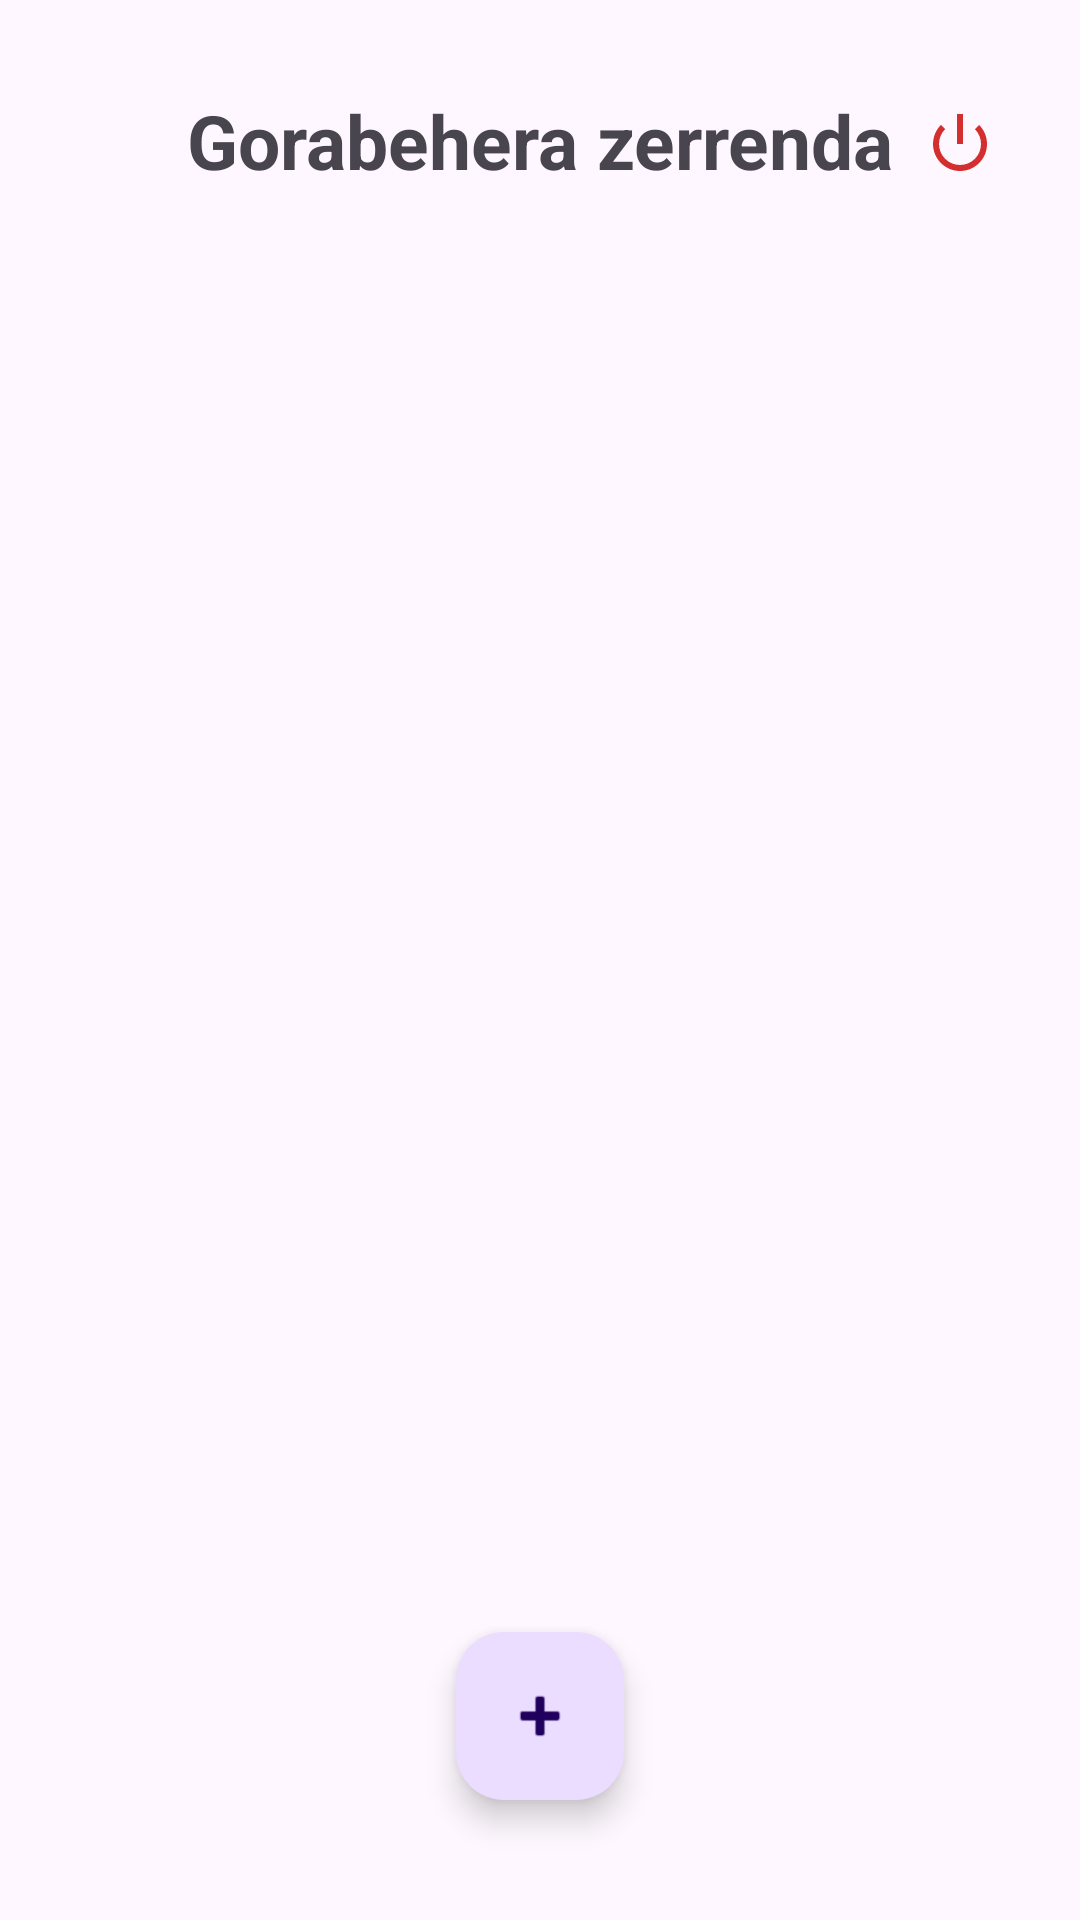

Where to tap for icons on this 1080*1920 app screen, as [x,y]:
add: [540,1716]
Cerrar Sesión: [960,142]
